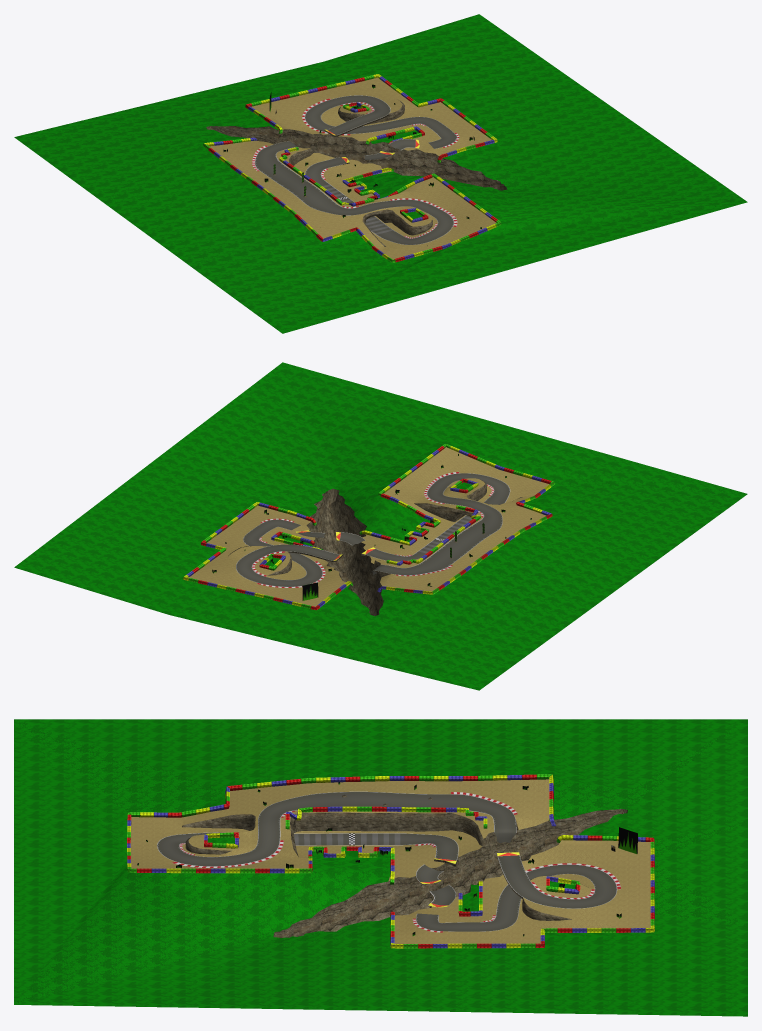
3 renders of one model, top to bottom at view 1: azimuth 30°, elevation 25°; view 2: azimuth 150°, elevation 25°; view 3: azimuth 270°, elevation 25°, orthographic. The views are drawn at different scales.
Visible parts, largest first — view 1: m_grass.001, m_suna, m_road_dark1024, rock2, m_color_block, m_color_block_top, m_enseki; view 2: m_grass.001, m_suna, m_road_dark1024, rock2, m_color_block, m_color_block_top, m_enseki; view 3: m_grass.001, m_suna, rock2, m_road_dark1024, m_color_block, m_color_block_top, m_enseki, grass.018, m_road_light1024.
Boxes of the visible parts, <box> form: m_grass.001: <box>14,14,747,333</box>; m_suna: <box>209,77,496,259</box>; m_road_dark1024: <box>255,95,457,244</box>; rock2: <box>206,100,507,246</box>; m_color_block: <box>203,75,501,262</box>; m_color_block_top: <box>204,74,500,259</box>; m_enseki: <box>252,98,459,238</box>; m_grass.001: <box>14,362,747,690</box>; m_suna: <box>189,447,549,606</box>; m_road_dark1024: <box>236,473,510,586</box>; rock2: <box>228,479,522,615</box>; m_color_block: <box>183,445,555,610</box>; m_color_block_top: <box>184,444,553,607</box>; m_enseki: <box>252,471,493,587</box>; m_grass.001: <box>14,719,747,1016</box>; m_suna: <box>130,779,650,943</box>; rock2: <box>182,795,627,937</box>; m_road_dark1024: <box>157,791,617,931</box>; m_color_block: <box>127,776,654,948</box>; m_color_block_top: <box>127,774,654,944</box>; m_enseki: <box>172,792,620,932</box>; grass.018: <box>137,782,637,936</box>; m_road_light1024: <box>294,833,400,845</box>.
Size of the model in its own units: 88627 by 10366 by 88627.
13 materials, 13 textured.
